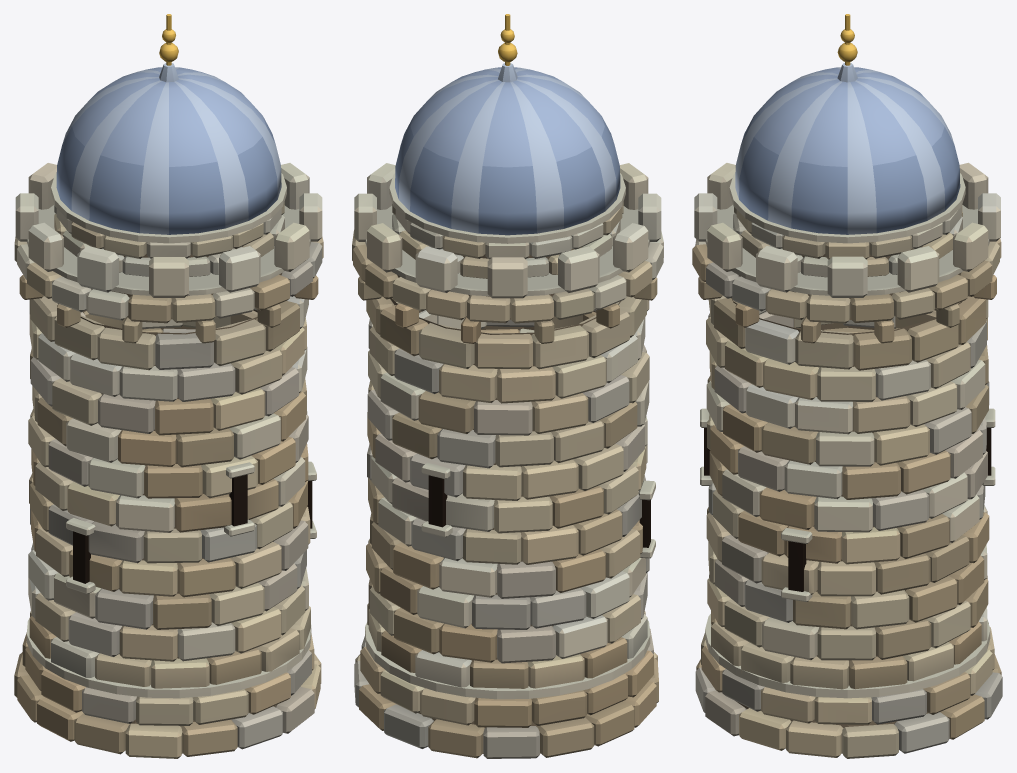
File: burc_dome.glb
3 renders of one model, left to right at view 1: azimuth 30°, elevation 25°; view 2: azimuth 150°, elevation 25°; view 3: azimuth 270°, elevation 25°, orthographic.
Visible parts, largest first — view 1: burc_dome; view 2: burc_dome; view 3: burc_dome.
Boxes of the visible parts, left/top/right/bottom form: burc_dome: left=14, top=14, right=323, bottom=758; burc_dome: left=352, top=14, right=663, bottom=758; burc_dome: left=692, top=14, right=1002, bottom=758.
Size of the model in its own units: 0.6797 by 1.64 by 0.6781.
